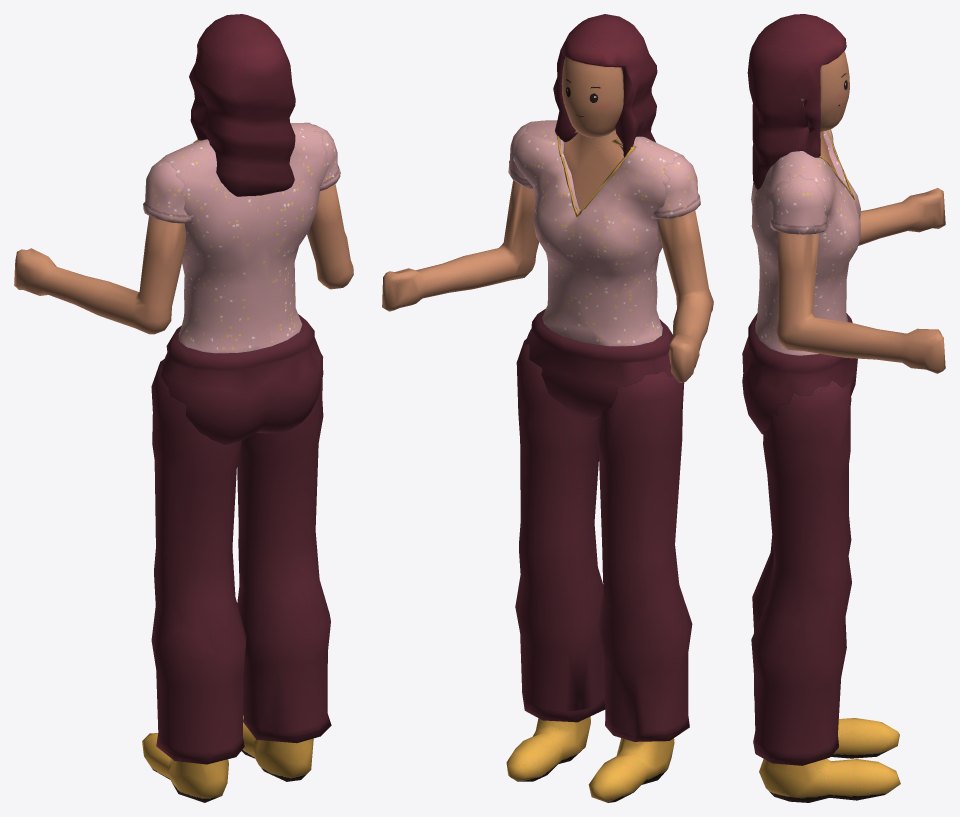
Rendered from disco_host.glb.
The picture shows the model from 3 angles, left to right: view 1: azimuth 30°, elevation 25°; view 2: azimuth 150°, elevation 25°; view 3: azimuth 270°, elevation 25°; orthographic projection. The views are drawn at different scales.
Parts seen in each view (by area): view 1: LegL_Pants, LegR_Pants, Torso_Top, Head_Hair, Torso_Hips, ArmL_Skin, ArmR_Skin, LegL_Shoe, LegR_Shoe, ArmL_Sleeve, ArmR_Sleeve; view 2: LegL_Pants, LegR_Pants, Torso_Top, Torso_Hips, Head_Hair, ArmR_Skin, ArmL_Skin, Head_Skin, LegL_Shoe, LegR_Shoe, Torso_Skin, ArmL_Sleeve; view 3: LegR_Pants, Head_Hair, Torso_Top, ArmR_Skin, Torso_Hips, LegR_Shoe, ArmL_Skin, ArmR_Sleeve, LegL_Shoe, Head_Skin, LegL_Pants.
Part boxes in pixels (<box>): LegL_Pants: <box>151,359,246,764</box>; LegR_Pants: <box>237,354,331,743</box>; Torso_Top: <box>162,122,328,353</box>; Head_Hair: <box>189,14,295,196</box>; Torso_Hips: <box>161,314,323,444</box>; ArmL_Skin: <box>14,216,186,334</box>; ArmR_Skin: <box>307,184,353,289</box>; LegL_Shoe: <box>142,733,228,802</box>; LegR_Shoe: <box>241,715,313,781</box>; ArmL_Sleeve: <box>143,158,191,223</box>; ArmR_Sleeve: <box>312,124,340,190</box>; LegL_Pants: <box>595,371,692,741</box>; LegR_Pants: <box>515,338,605,722</box>; Torso_Top: <box>513,120,684,346</box>; Torso_Hips: <box>526,308,673,419</box>; Head_Hair: <box>553,14,657,156</box>; ArmR_Skin: <box>382,180,539,311</box>; ArmL_Skin: <box>657,210,713,382</box>; Head_Skin: <box>561,57,623,137</box>; LegL_Shoe: <box>588,738,674,802</box>; LegR_Shoe: <box>506,716,590,781</box>; Torso_Skin: <box>563,129,623,209</box>; ArmL_Sleeve: <box>650,155,700,218</box>; LegR_Pants: <box>751,380,851,765</box>; Head_Hair: <box>747,14,846,189</box>; Torso_Top: <box>751,129,860,355</box>; ArmR_Skin: <box>776,231,945,373</box>; Torso_Hips: <box>742,313,857,434</box>; LegR_Shoe: <box>759,758,900,802</box>; ArmL_Skin: <box>858,188,945,245</box>; ArmR_Sleeve: <box>770,173,827,234</box>; LegL_Shoe: <box>831,718,899,758</box>; Head_Skin: <box>800,51,849,131</box>; LegL_Pants: <box>752,397,851,700</box>.
Size of the model in its own units: 0.7323 by 1.69 by 0.4119.
Materials: 1 (1 with a texture image).
